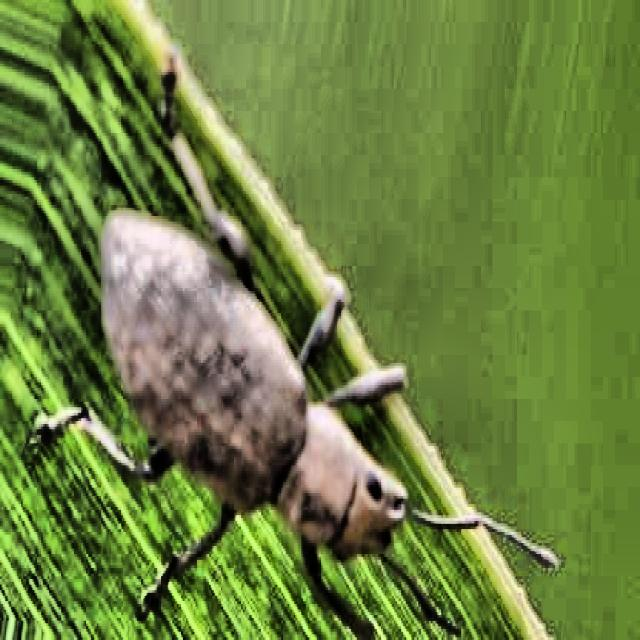Stink bug: (80, 113, 435, 640)
